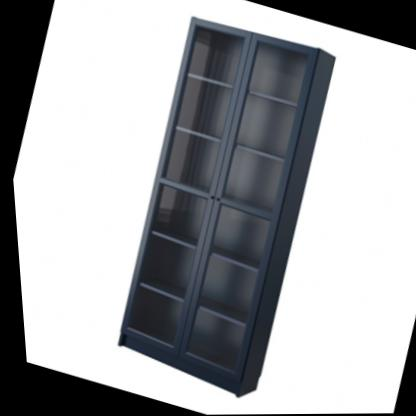Cabinet: (79, 6, 363, 409)
